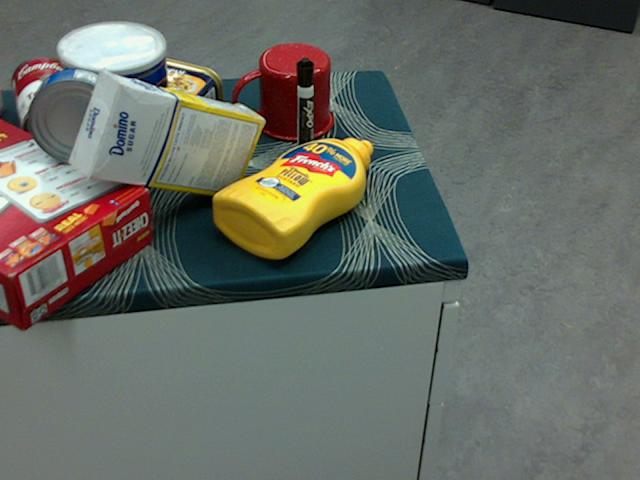cracker_box: (0, 118, 153, 326)
gelatin_box: (0, 87, 5, 118)
large_marker: (294, 57, 314, 163)
master_chef_can: (59, 23, 171, 191)
mug: (231, 43, 332, 142)
mustard_bottle: (212, 137, 373, 258)
potted_meat_can: (110, 56, 222, 144)
sugar_box: (69, 73, 264, 197)
tomato_soup_can: (14, 55, 85, 154)
tuna_fish_can: (27, 68, 124, 164)
